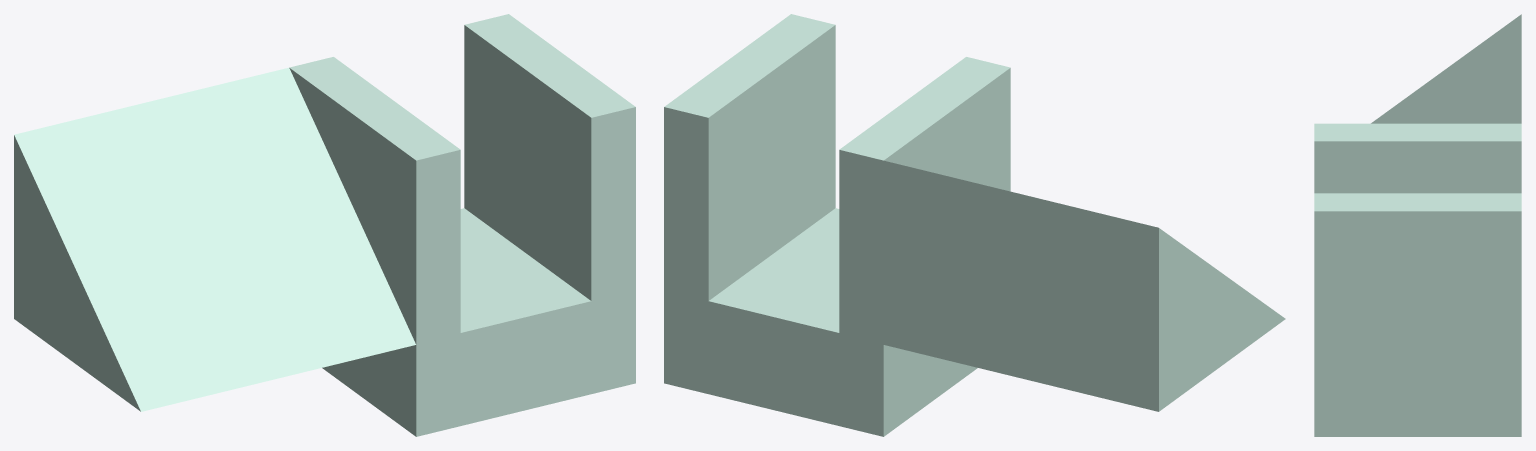
3 renders of one model, left to right at view 1: azimuth 30°, elevation 25°; view 2: azimuth 150°, elevation 25°; view 3: azimuth 270°, elevation 25°, orthographic. The views are drawn at different scales.
Parts seen in each view (by area): view 1: Renderer Node; view 2: Renderer Node; view 3: Renderer Node.
Part boxes in pixels (left/top/right/bottom): Renderer Node: left=14, top=14, right=635, bottom=436; Renderer Node: left=664, top=14, right=1285, bottom=436; Renderer Node: left=1314, top=14, right=1521, bottom=436.
Size of the model in its own units: 1.4 by 0.75 by 0.625.
